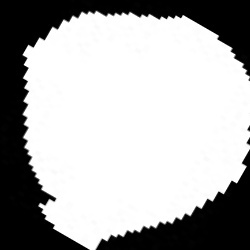spot: (21, 10, 249, 249)
